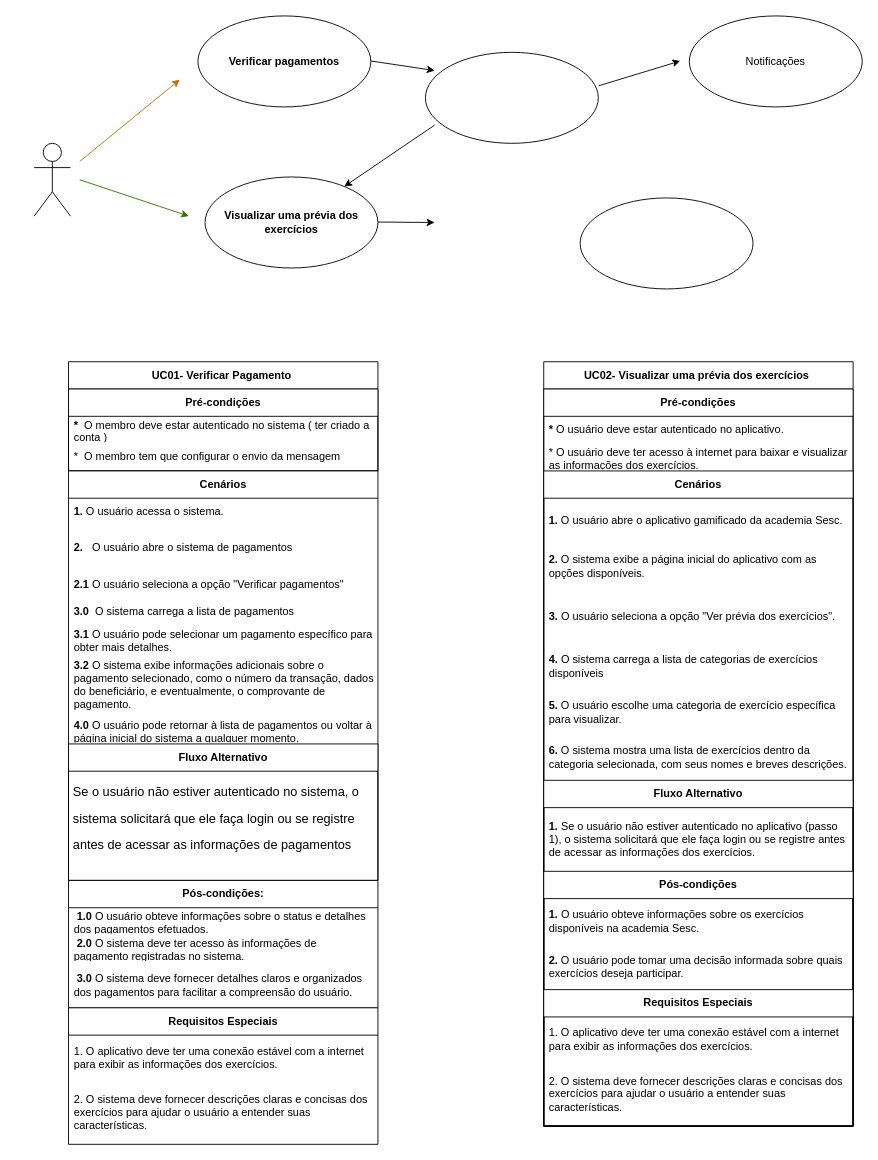
The diagram is 878 pixels wide and 1160 high, and some of its shapes have lost their labels. Each missing label, with the centre of its shape:
O sistema mostra as opções do menu: pixel 666 243
Realiza login: pixel 511 97
Usuário do app: pixel 52 179
